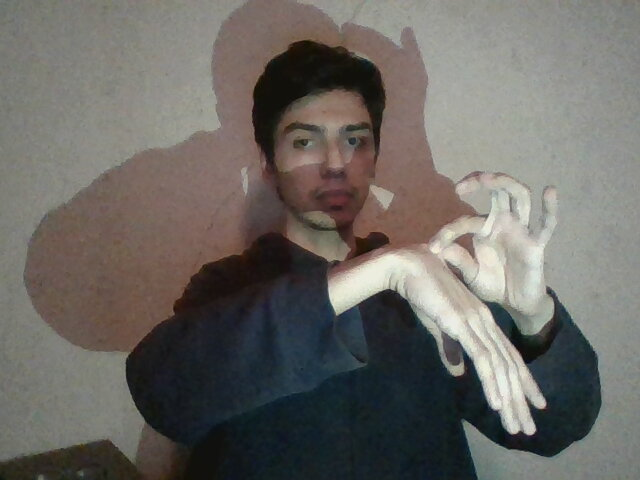carne: (338, 165, 583, 451)
